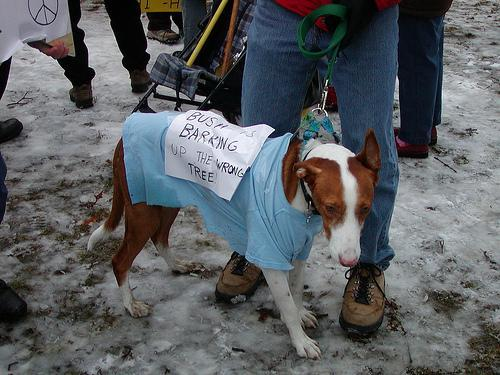Ibizan_hound: (86, 106, 383, 361)
